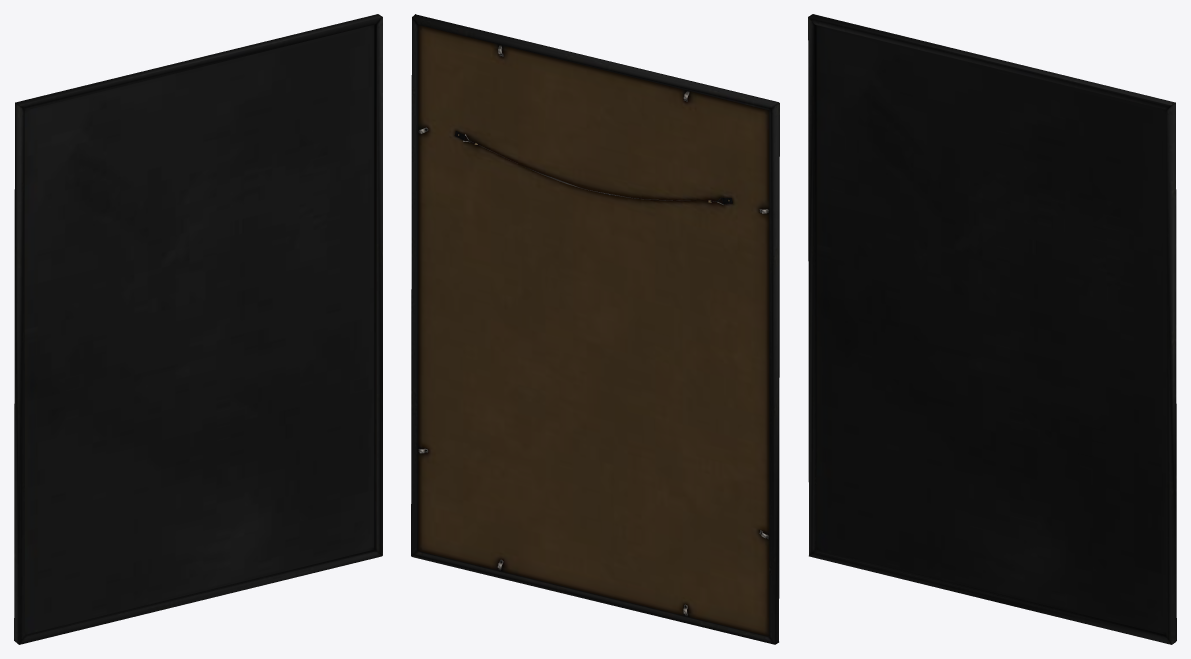
Rendered from hanging_picture_frame_01.glb.
3 views of the same model, side by side, from view 1: azimuth 30°, elevation 25°; view 2: azimuth 150°, elevation 25°; view 3: azimuth 330°, elevation 25° (orthographic).
Parts seen in each view (by area): view 1: hanging_picture_frame_01; view 2: hanging_picture_frame_01; view 3: hanging_picture_frame_01.
Part boxes in pixels (left/top/right/bottom): hanging_picture_frame_01: left=14, top=14, right=382, bottom=644; hanging_picture_frame_01: left=411, top=14, right=779, bottom=644; hanging_picture_frame_01: left=808, top=14, right=1176, bottom=644.
Size of the model in its own units: 0.5932 by 0.84 by 0.0151.
Materials: 3 (3 with a texture image).
